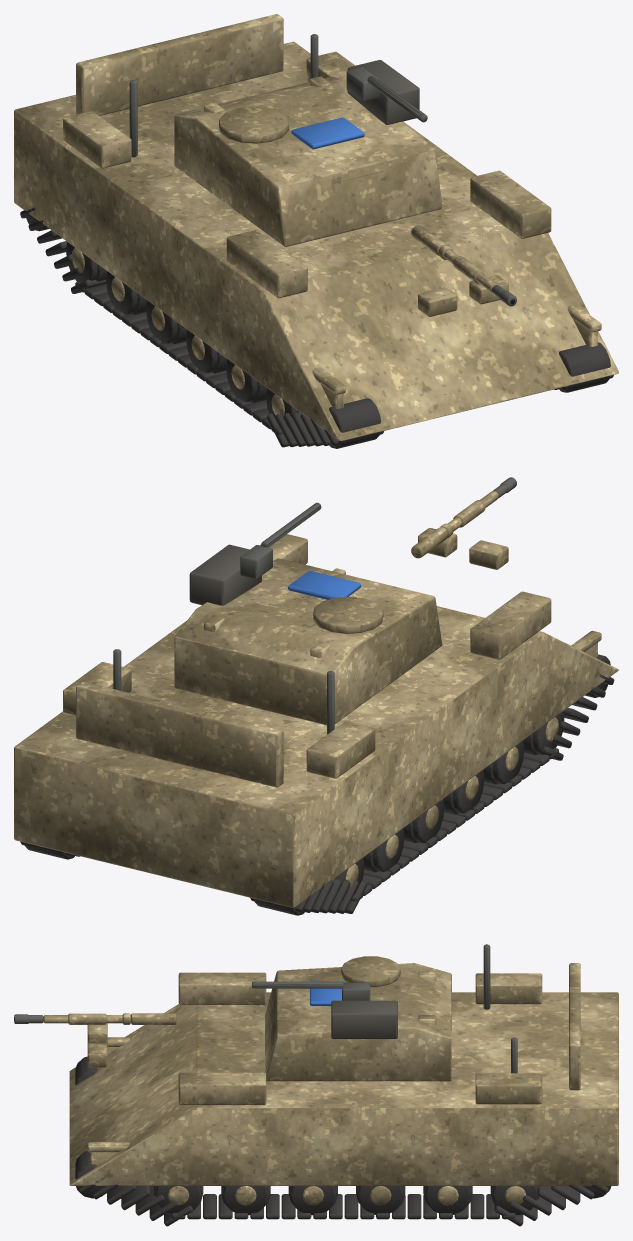
File: afv_e4_us_ifv_LOD0.glb
3 renders of one model, top to bottom at view 1: azimuth 30°, elevation 25°; view 2: azimuth 150°, elevation 25°; view 3: azimuth 270°, elevation 25°, orthographic. The views are drawn at different scales.
Visible parts, largest first — view 1: afv_e4_us_ifv_LOD0_body, afv_e4_us_ifv_LOD0_track, afv_e4_us_ifv_LOD0_gun, afv_e4_us_ifv_LOD0_deck, afv_e4_us_ifv_LOD0_team; view 2: afv_e4_us_ifv_LOD0_body, afv_e4_us_ifv_LOD0_track, afv_e4_us_ifv_LOD0_deck, afv_e4_us_ifv_LOD0_gun, afv_e4_us_ifv_LOD0_team; view 3: afv_e4_us_ifv_LOD0_body, afv_e4_us_ifv_LOD0_track, afv_e4_us_ifv_LOD0_deck, afv_e4_us_ifv_LOD0_gun, afv_e4_us_ifv_LOD0_team.
Part boxes in pixels (bbox=[...]): afv_e4_us_ifv_LOD0_body: bbox=[14, 14, 618, 441]; afv_e4_us_ifv_LOD0_track: bbox=[20, 207, 613, 448]; afv_e4_us_ifv_LOD0_gun: bbox=[129, 34, 516, 306]; afv_e4_us_ifv_LOD0_deck: bbox=[347, 60, 419, 124]; afv_e4_us_ifv_LOD0_team: bbox=[291, 117, 364, 149]; afv_e4_us_ifv_LOD0_body: bbox=[14, 491, 618, 907]; afv_e4_us_ifv_LOD0_track: bbox=[20, 654, 614, 915]; afv_e4_us_ifv_LOD0_deck: bbox=[189, 544, 261, 605]; afv_e4_us_ifv_LOD0_gun: bbox=[113, 477, 516, 734]; afv_e4_us_ifv_LOD0_team: bbox=[288, 570, 361, 599]; afv_e4_us_ifv_LOD0_body: bbox=[43, 956, 618, 1205]; afv_e4_us_ifv_LOD0_track: bbox=[75, 1056, 611, 1226]; afv_e4_us_ifv_LOD0_deck: bbox=[331, 1000, 397, 1038]; afv_e4_us_ifv_LOD0_gun: bbox=[14, 944, 517, 1073]; afv_e4_us_ifv_LOD0_team: bbox=[310, 981, 346, 1005].
Bounding box in the file's own units: 3.28 × 2.77 × 7.25.
6 materials, 1 textured.
